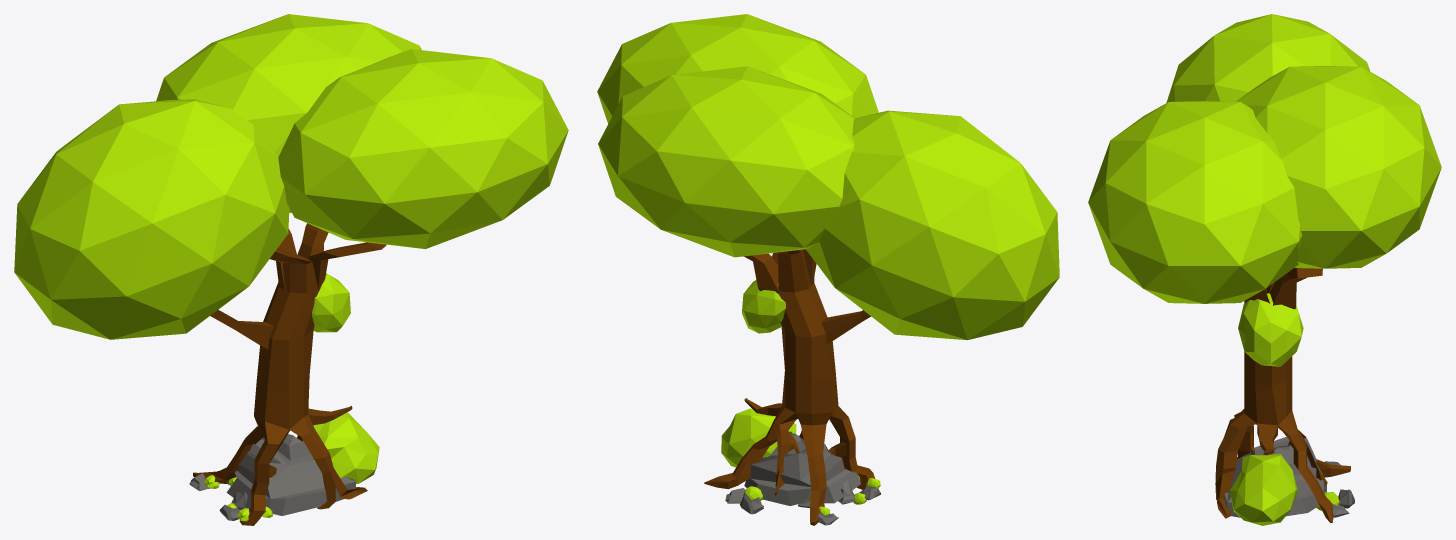
The model's file is FreeTree.fbx.
3 renders of one model, left to right at view 1: azimuth 30°, elevation 25°; view 2: azimuth 150°, elevation 25°; view 3: azimuth 270°, elevation 25°, orthographic. The views are drawn at different scales.
Visible parts, largest first — view 1: Icosphere.002, Icosphere.004, Icosphere.003, Cylinder, Cube, Icosphere.001, Icosphere; view 2: Icosphere.002, Icosphere.003, Cylinder, Icosphere.004, Cube, Icosphere.001, Icosphere; view 3: Icosphere.004, Icosphere.003, Icosphere.002, Cylinder, Icosphere.001, Icosphere, Cube.
Boxes of the visible parts, box(x1,y1,x2,y2) form: Icosphere.002: box(14, 99, 289, 339); Icosphere.004: box(278, 49, 568, 248); Icosphere.003: box(156, 14, 421, 212); Cylinder: box(193, 223, 386, 525); Cube: box(226, 434, 355, 515); Icosphere.001: box(303, 412, 379, 483); Icosphere: box(312, 273, 350, 332); Icosphere.002: box(806, 110, 1059, 340); Icosphere.003: box(598, 66, 855, 257); Cylinder: box(704, 249, 878, 525); Icosphere.004: box(597, 14, 878, 123); Cube: box(744, 431, 860, 505); Icosphere.001: box(721, 408, 796, 467); Icosphere: box(742, 280, 785, 333); Icosphere.004: box(1088, 101, 1302, 303); Icosphere.003: box(1236, 66, 1441, 268); Icosphere.002: box(1166, 14, 1370, 102); Cylinder: box(1215, 268, 1350, 522); Icosphere.001: box(1230, 453, 1297, 525); Icosphere: box(1238, 293, 1303, 366); Cube: box(1224, 436, 1326, 517).
Size of the model in its own units: 4283 by 3738 by 2735.
